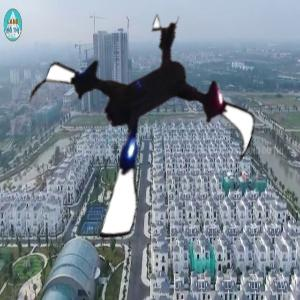drone: (24, 7, 263, 246)
